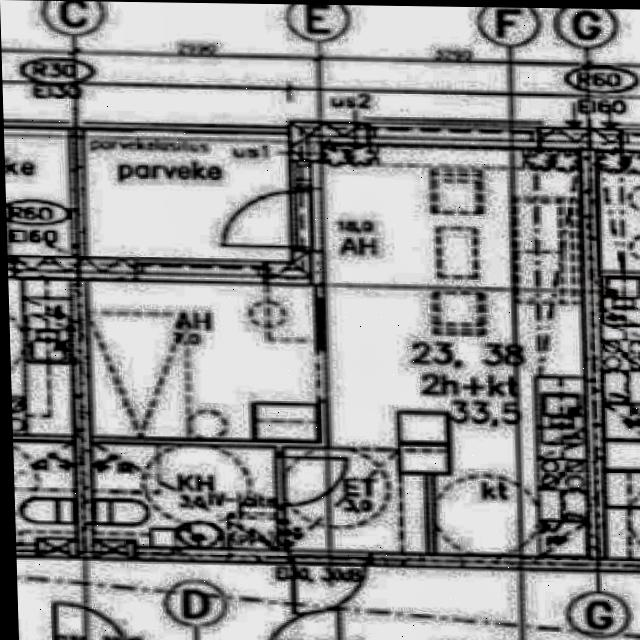room: (86, 280, 322, 440), (81, 130, 294, 262), (91, 444, 280, 551), (282, 448, 430, 553)
